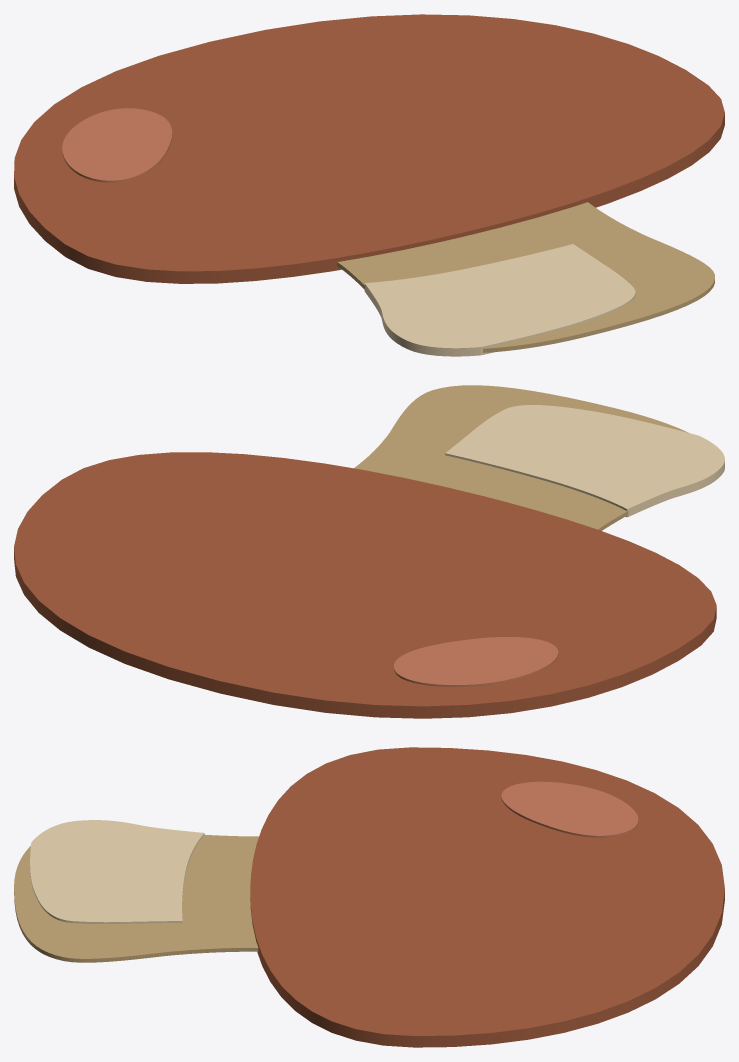
File: emoji_u1f344_200d_1f7eb.glb
3 views of the same model, one above another, from view 1: azimuth 30°, elevation 25°; view 2: azimuth 150°, elevation 25°; view 3: azimuth 270°, elevation 25° (orthographic). The views are drawn at different scales.
Visible parts, largest first — view 1: emoji_u1f344_200d_1f7eb; view 2: emoji_u1f344_200d_1f7eb; view 3: emoji_u1f344_200d_1f7eb.
Boxes of the visible parts, x1=… form: emoji_u1f344_200d_1f7eb: x1=14, y1=14, x2=724, y2=356; emoji_u1f344_200d_1f7eb: x1=14, y1=385, x2=724, y2=718; emoji_u1f344_200d_1f7eb: x1=14, y1=747, x2=724, y2=1047.
Bounding box in the file's own units: 0.0323 × 0.0008 × 0.0336.
